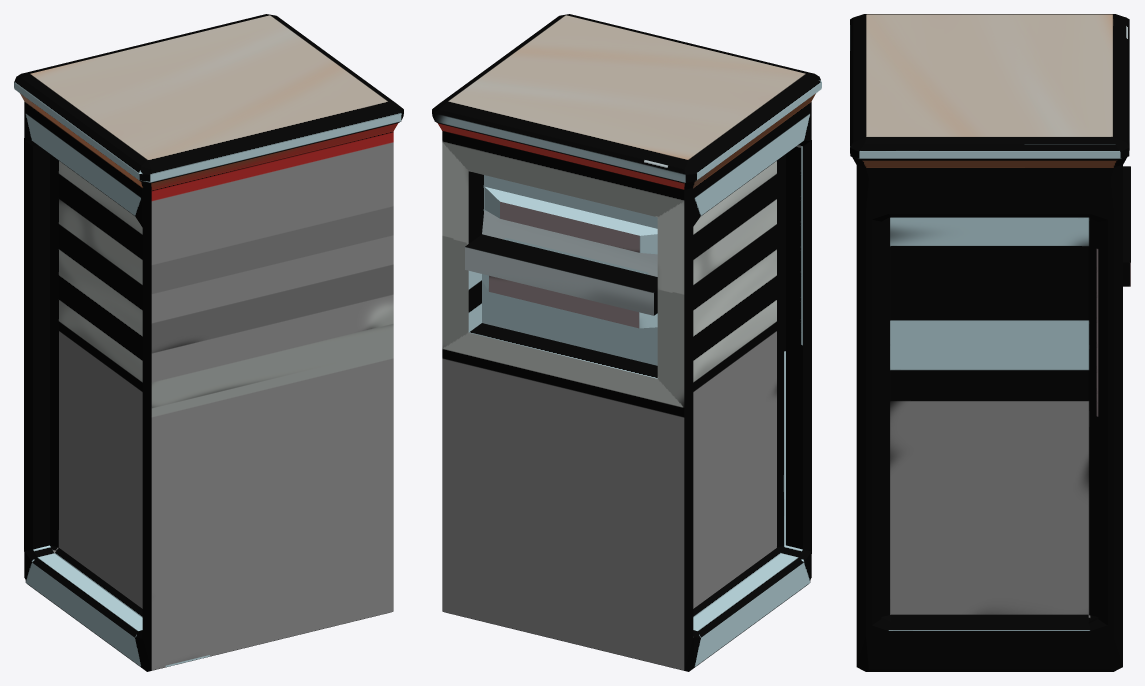
Rendered from server.obj.
3 views of the same model, side by side, from view 1: azimuth 30°, elevation 25°; view 2: azimuth 150°, elevation 25°; view 3: azimuth 270°, elevation 25° (orthographic). The views are drawn at different scales.
Parts seen in each view (by area): view 1: Cube; view 2: Cube; view 3: Cube.
Boxes of the visible parts, x1,y1,x2,y2 form: Cube: [14, 14, 403, 671]; Cube: [432, 14, 821, 671]; Cube: [850, 14, 1130, 671].
Bounding box in the file's own units: 2.11 × 3.89 × 1.86.
